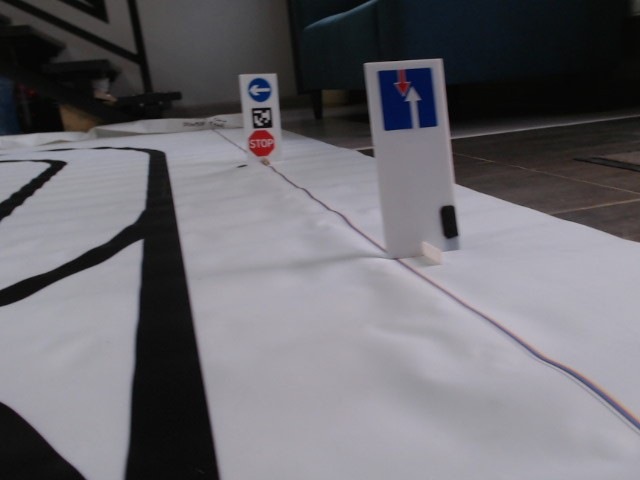Stop: (247, 129, 275, 157)
priority_movement: (375, 66, 440, 131)
